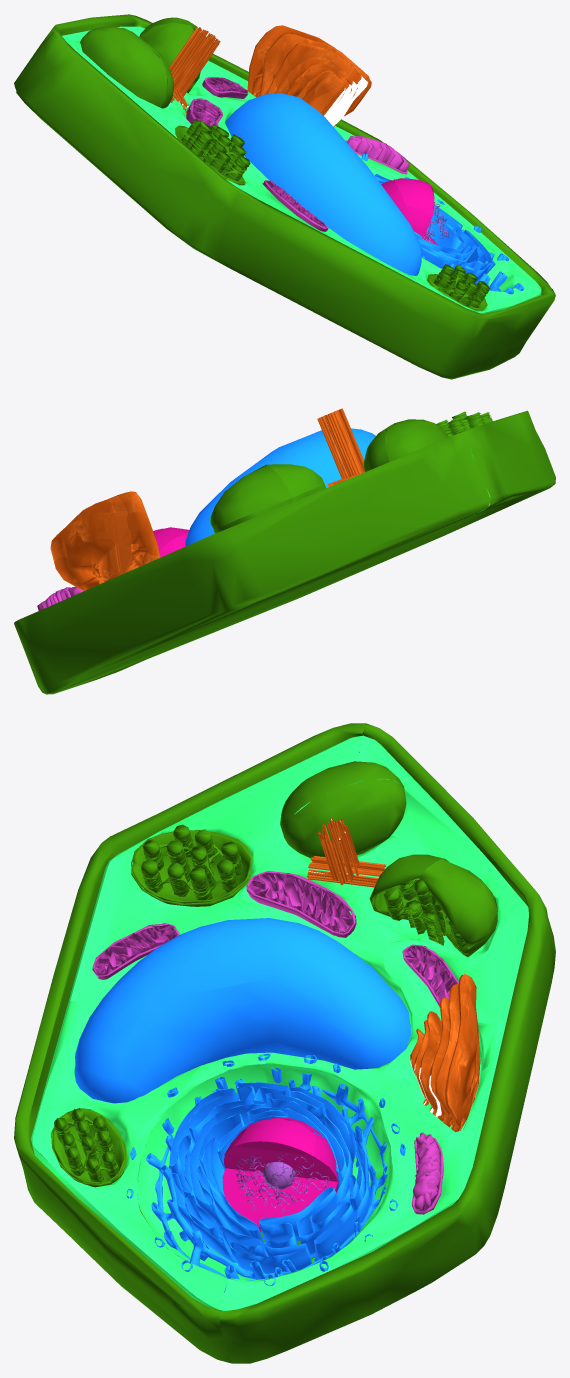
File: plant_cell_model.glb
3 renders of one model, top to bottom at view 1: azimuth 30°, elevation 25°; view 2: azimuth 150°, elevation 25°; view 3: azimuth 270°, elevation 25°, orthographic. The views are drawn at different scales.
Visible parts, largest first — view 1: Mesh_1; view 2: Mesh_1; view 3: Mesh_1.
Boxes of the visible parts, x1,y1,x2,y2 form: Mesh_1: [14, 14, 555, 379]; Mesh_1: [14, 408, 555, 694]; Mesh_1: [14, 723, 555, 1363].
Bounding box in the file's own units: 8.91 × 6.71 × 7.86.
7 materials, 1 textured.
